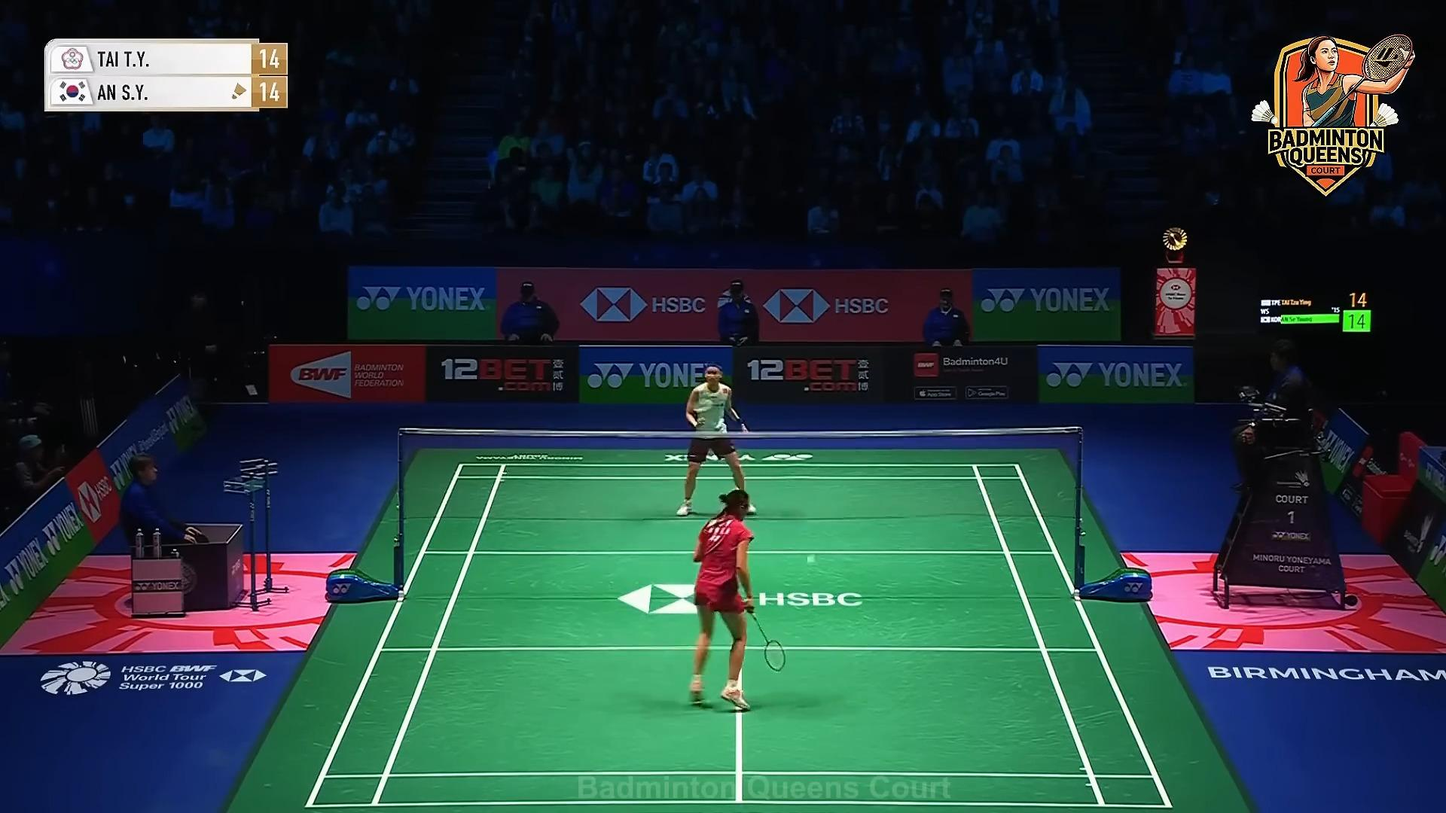player: (688, 490, 758, 714), (677, 361, 757, 518)
